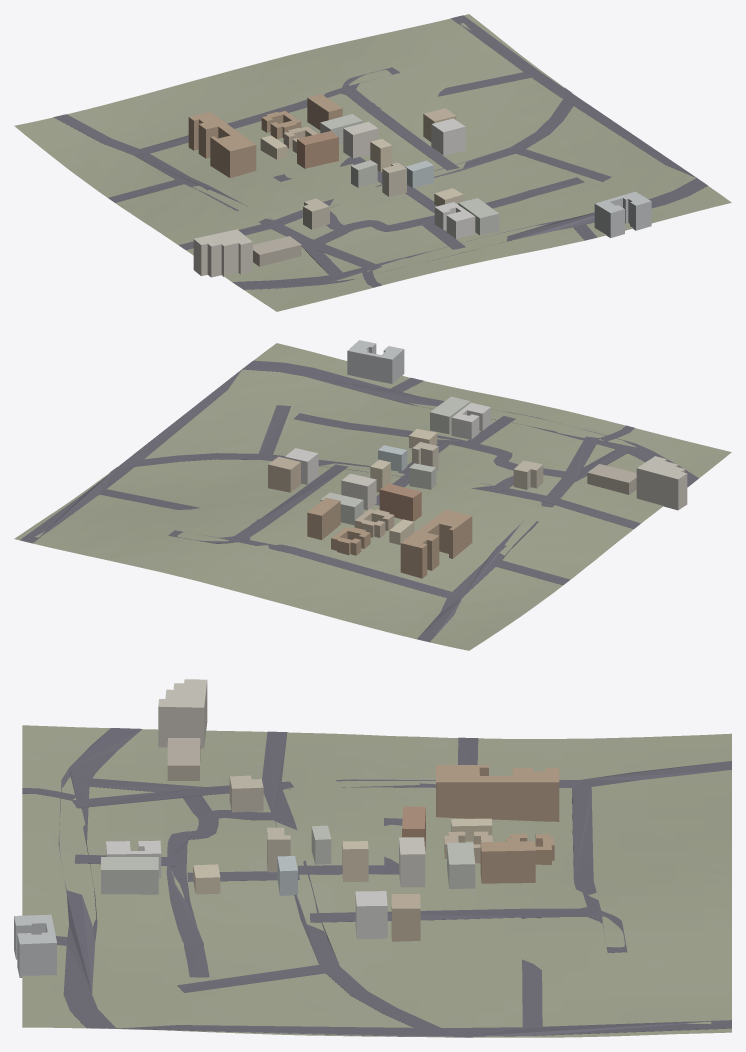
Rendered from chunk_8_8.glb.
The picture shows the model from 3 angles, top to bottom: view 1: azimuth 30°, elevation 25°; view 2: azimuth 150°, elevation 25°; view 3: azimuth 270°, elevation 25°; orthographic projection. The views are drawn at different scales.
Parts seen in each view (by area): view 1: geometry_21, geometry_5, geometry_30, geometry_23, geometry_0, geometry_39, geometry_1, geometry_22, geometry_40, geometry_25, geometry_16, geometry_24 (+20 smaller); view 2: geometry_21, geometry_5, geometry_30, geometry_23, geometry_22, geometry_0, geometry_39, geometry_1, geometry_24, geometry_40, geometry_25, geometry_16 (+18 smaller); view 3: geometry_21, geometry_5, geometry_30, geometry_23, geometry_22, geometry_40, geometry_24, geometry_0, geometry_1, geometry_11, geometry_39, geometry_9 (+24 smaller).
Part boxes in pixels (bbox=[...]): geometry_21: bbox=[14, 14, 731, 311]; geometry_5: bbox=[188, 111, 256, 178]; geometry_30: bbox=[232, 178, 707, 289]; geometry_23: bbox=[451, 15, 696, 177]; geometry_0: bbox=[193, 229, 252, 277]; geometry_39: bbox=[53, 114, 309, 241]; geometry_1: bbox=[594, 191, 651, 237]; geometry_22: bbox=[179, 99, 573, 249]; geometry_40: bbox=[314, 177, 584, 243]; geometry_25: bbox=[342, 88, 459, 170]; geometry_16: bbox=[297, 131, 338, 168]; geometry_24: bbox=[139, 67, 400, 153]; geometry_21: bbox=[14, 343, 731, 650]; geometry_5: bbox=[400, 509, 472, 578]; geometry_30: bbox=[242, 360, 698, 487]; geometry_23: bbox=[20, 369, 241, 543]; geometry_22: bbox=[135, 453, 640, 528]; geometry_0: bbox=[636, 456, 687, 510]; geometry_39: bbox=[417, 479, 573, 642]; geometry_1: bbox=[347, 340, 404, 383]; geometry_24: bbox=[168, 530, 454, 597]; geometry_40: bbox=[293, 413, 565, 477]; geometry_25: bbox=[233, 464, 348, 540]; geometry_16: bbox=[379, 483, 421, 521]; geometry_21: bbox=[22, 725, 731, 1037]; geometry_5: bbox=[436, 765, 559, 821]; geometry_30: bbox=[58, 728, 141, 1028]; geometry_23: bbox=[116, 1020, 731, 1036]; geometry_22: bbox=[262, 731, 440, 1027]; geometry_40: bbox=[166, 795, 218, 977]; geometry_24: bbox=[572, 784, 627, 952]; geometry_0: bbox=[158, 679, 207, 748]; geometry_1: bbox=[14, 914, 56, 977]; geometry_11: bbox=[480, 841, 535, 883]; geometry_39: bbox=[206, 761, 731, 794]; geometry_9: bbox=[101, 857, 158, 894].
Bounding box in the file's own units: 258 × 19.43 × 253.
